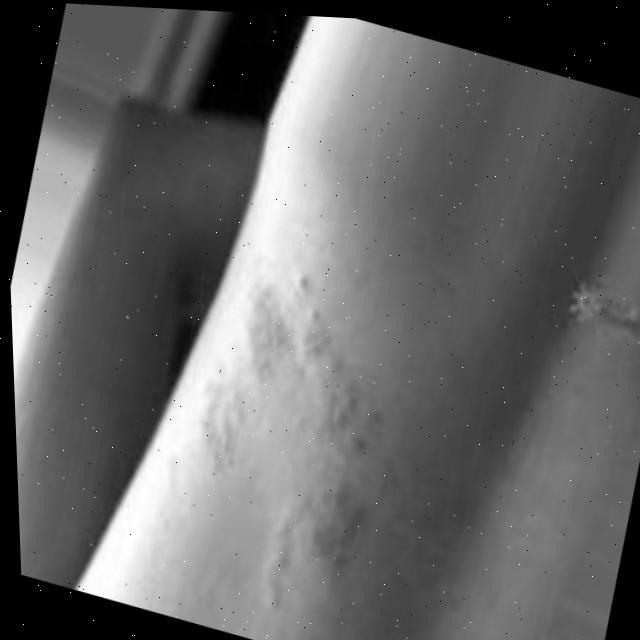Shingles: (160, 238, 421, 633)
